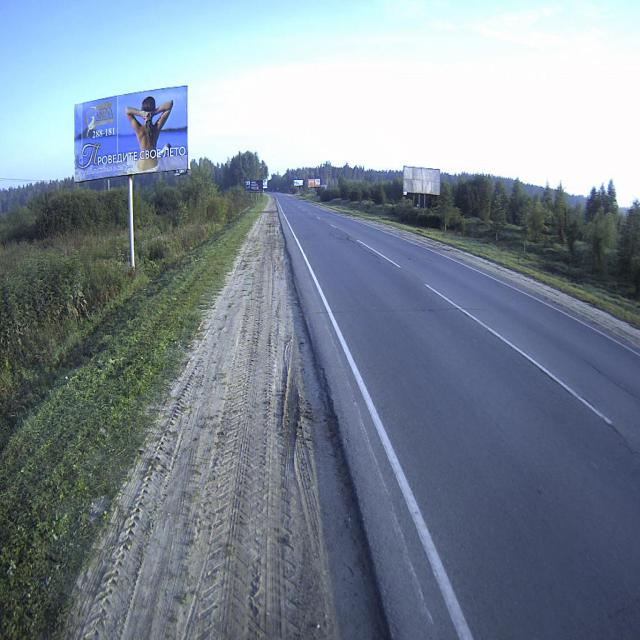road: (272, 193, 640, 639)
